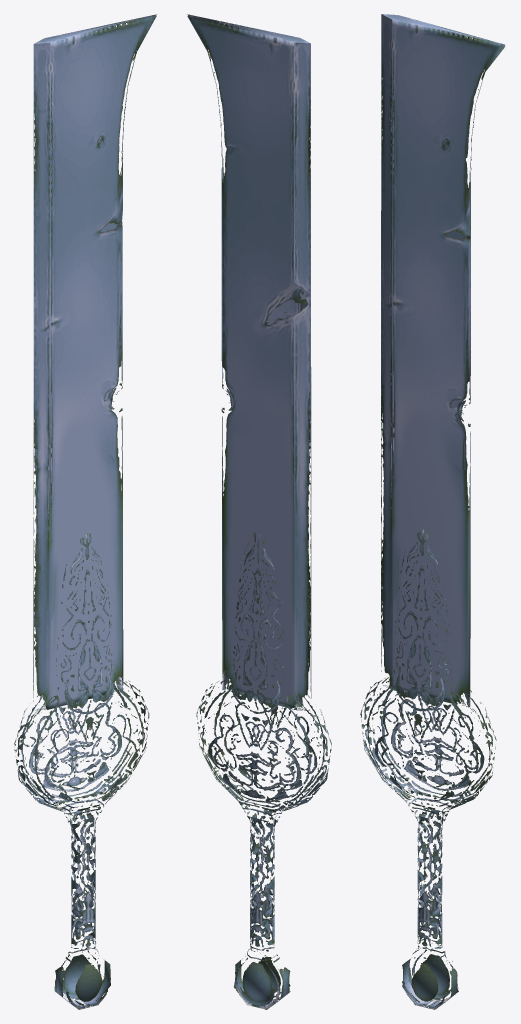
The model's file is Sword.FBX.
3 views of the same model, side by side, from view 1: azimuth 30°, elevation 25°; view 2: azimuth 150°, elevation 25°; view 3: azimuth 330°, elevation 25° (orthographic).
Visible parts, largest first — view 1: Sword; view 2: Sword; view 3: Sword.
Boxes of the visible parts, bbox=[...] form: Sword: bbox=[14, 14, 156, 1009]; Sword: bbox=[187, 14, 331, 1009]; Sword: bbox=[360, 14, 505, 1009].
Bounding box in the file's own units: 24.98 × 161 × 5.45.
